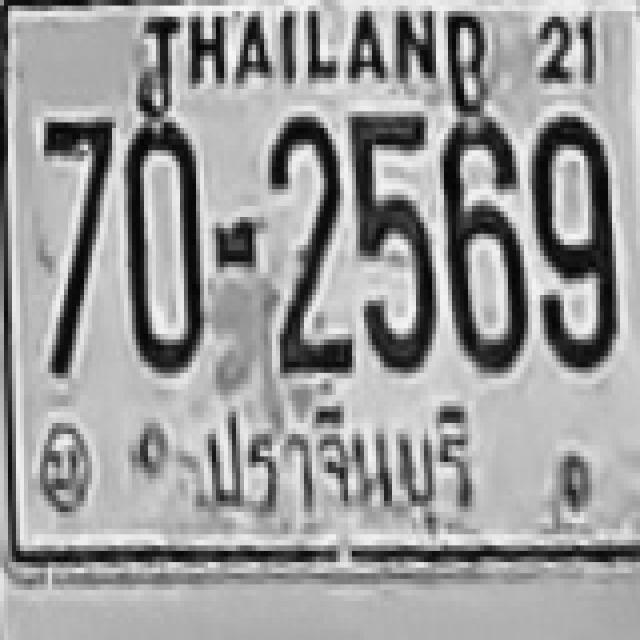0: (124, 117, 200, 367)
2: (268, 111, 348, 373)
5: (348, 106, 432, 367)
6: (440, 111, 524, 368)
7: (40, 114, 112, 376)
9: (528, 111, 612, 368)
PrachinBuri: (184, 399, 484, 531)
